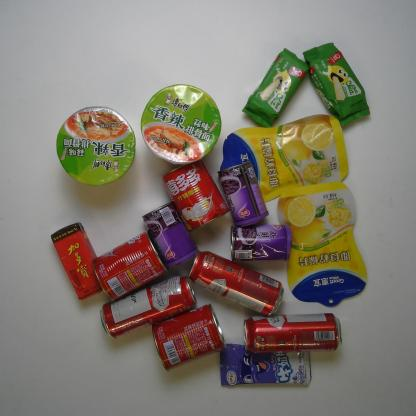Alcohol: (186, 247, 286, 318), (97, 274, 199, 340), (241, 313, 344, 356)
Candy: (216, 341, 314, 391)
Canned Food: (90, 227, 172, 303), (149, 301, 229, 374), (160, 156, 232, 233), (140, 199, 201, 269), (216, 159, 270, 229), (228, 218, 294, 266)
Dessert: (301, 39, 372, 129), (240, 46, 312, 130)
Dried Fruit: (218, 112, 353, 206), (275, 180, 369, 308)
Drink: (48, 219, 106, 302)
Instant Noodles: (140, 82, 222, 166), (55, 104, 137, 187)
